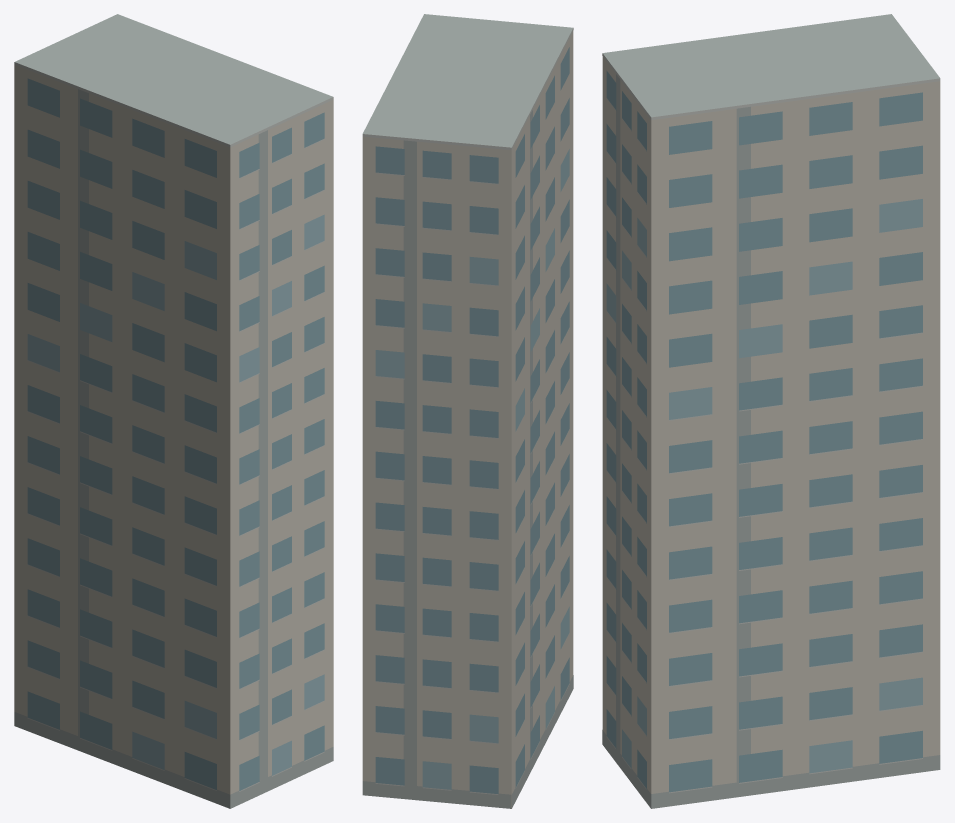
The model's file is residential-79ca0c48-6f94-40db-a816-bdd244e661f9.glb.
3 renders of one model, left to right at view 1: azimuth 30°, elevation 25°; view 2: azimuth 150°, elevation 25°; view 3: azimuth 270°, elevation 25°, orthographic. The views are drawn at different scales.
Visible parts, largest first — view 1: residential-79ca0c48-6f94-40db-a816-bdd244e661f9.tmp; view 2: residential-79ca0c48-6f94-40db-a816-bdd244e661f9.tmp; view 3: residential-79ca0c48-6f94-40db-a816-bdd244e661f9.tmp.
Boxes of the visible parts, x1,y1,x2,y2 form: residential-79ca0c48-6f94-40db-a816-bdd244e661f9.tmp: (14,14,333,808); residential-79ca0c48-6f94-40db-a816-bdd244e661f9.tmp: (362,14,573,808); residential-79ca0c48-6f94-40db-a816-bdd244e661f9.tmp: (602,14,940,808).
Bounding box in the file's own units: 19.25 × 60 × 26.58.
